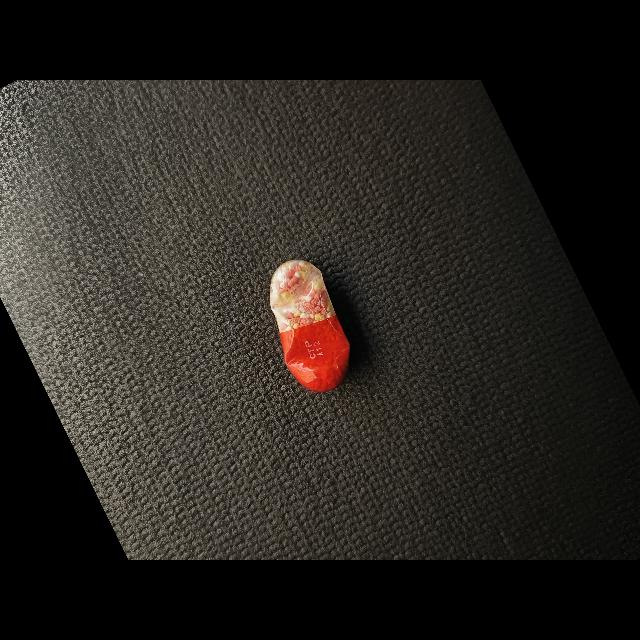Defective Capsule: (270, 260, 350, 393)
